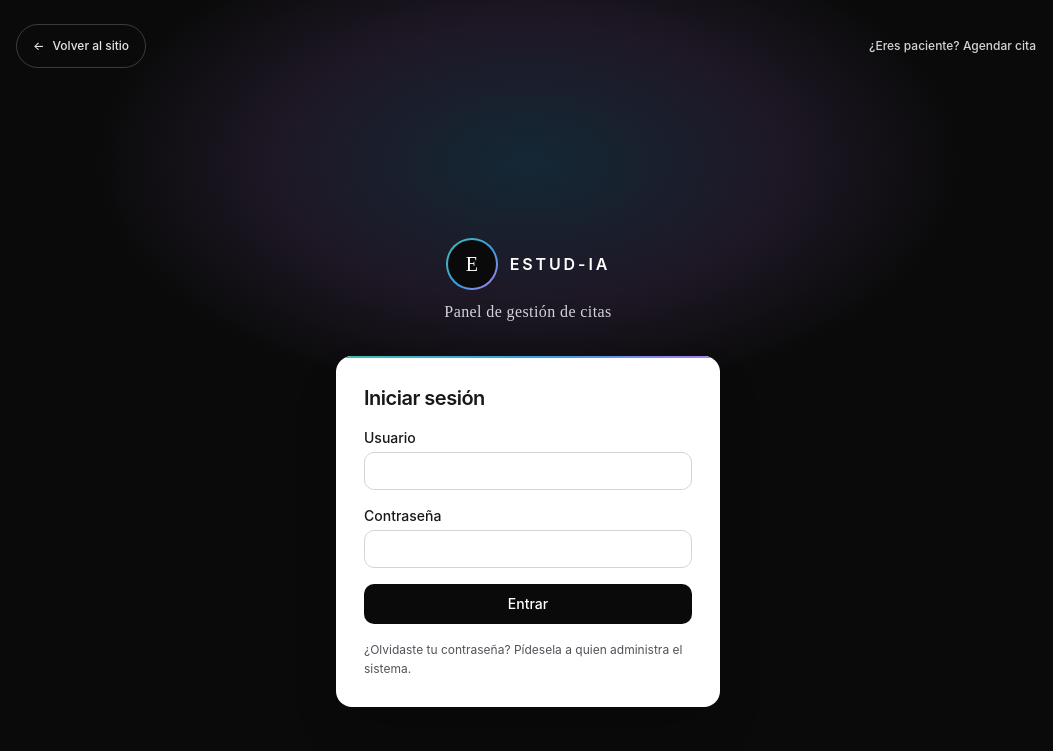
Test: inicio de sesión › muestra el mensaje de la API (401)
The image size is (1053, 751).
(page scrolled)
In the field labelled "Usuario": (528,470) [364,452,692,490], type "x"
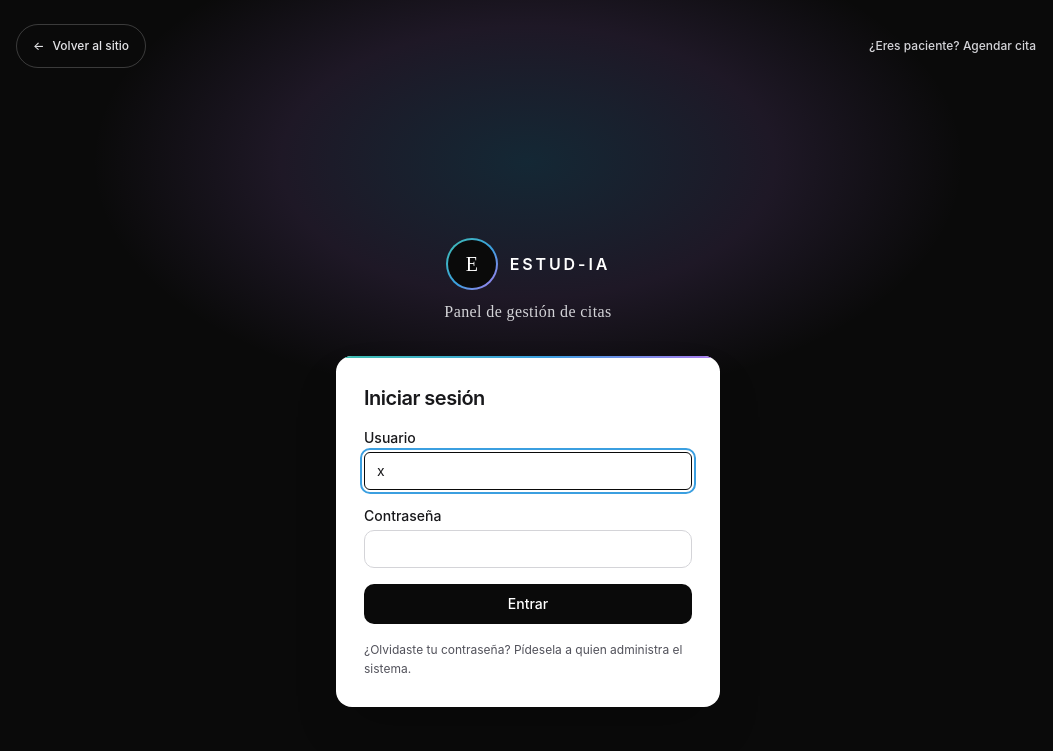
In the password field labelled "Contraseña": (528,548) [364,530,692,568], type "mala"
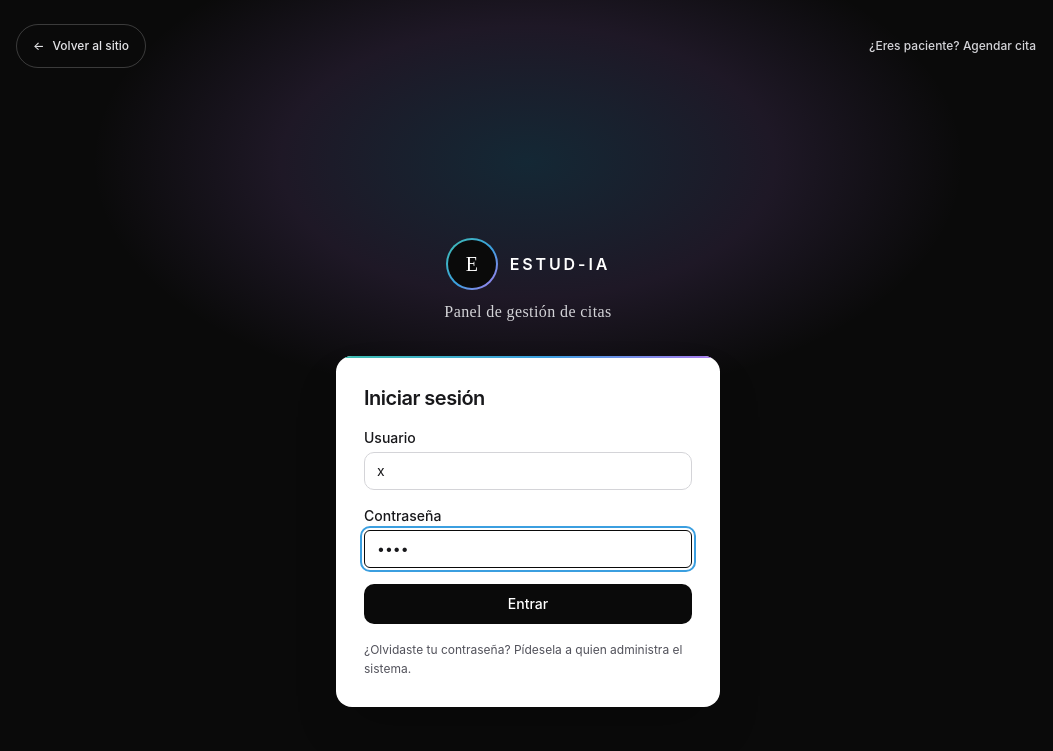
Click the button "Entrar": (528,604) [364,584,692,624]
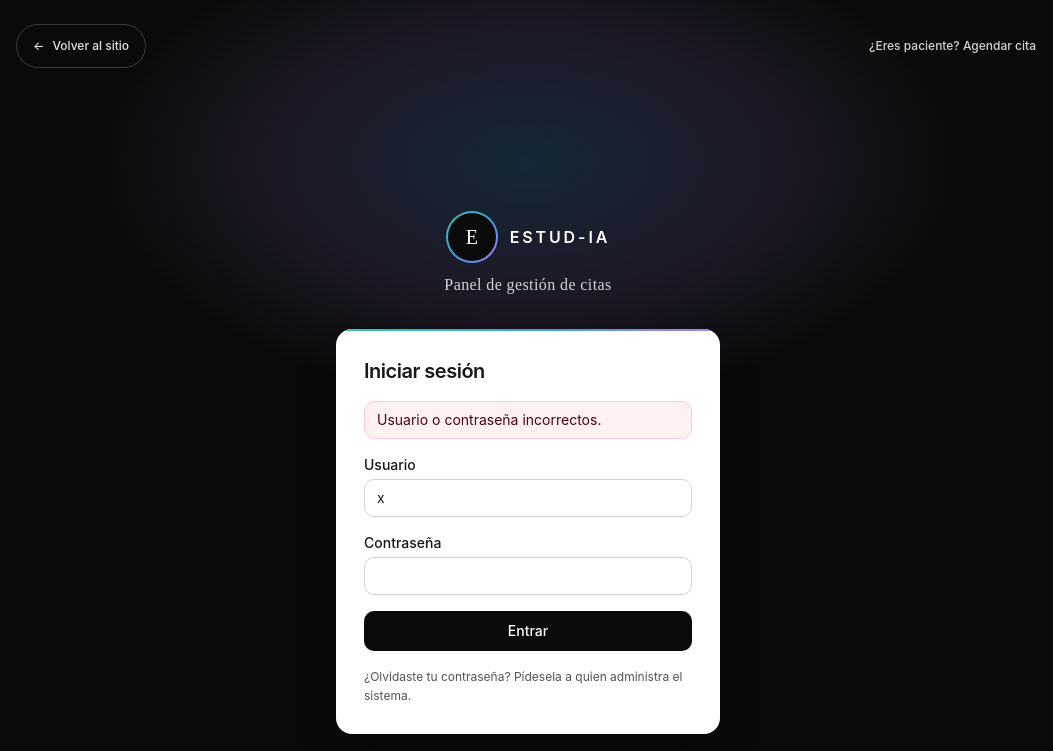
Now the message reads "Usuario o contraseña incorrectos.", box [377,410,601,428]
Now the password field labelled "Contraseña" is empty, box [364,556,692,594]
